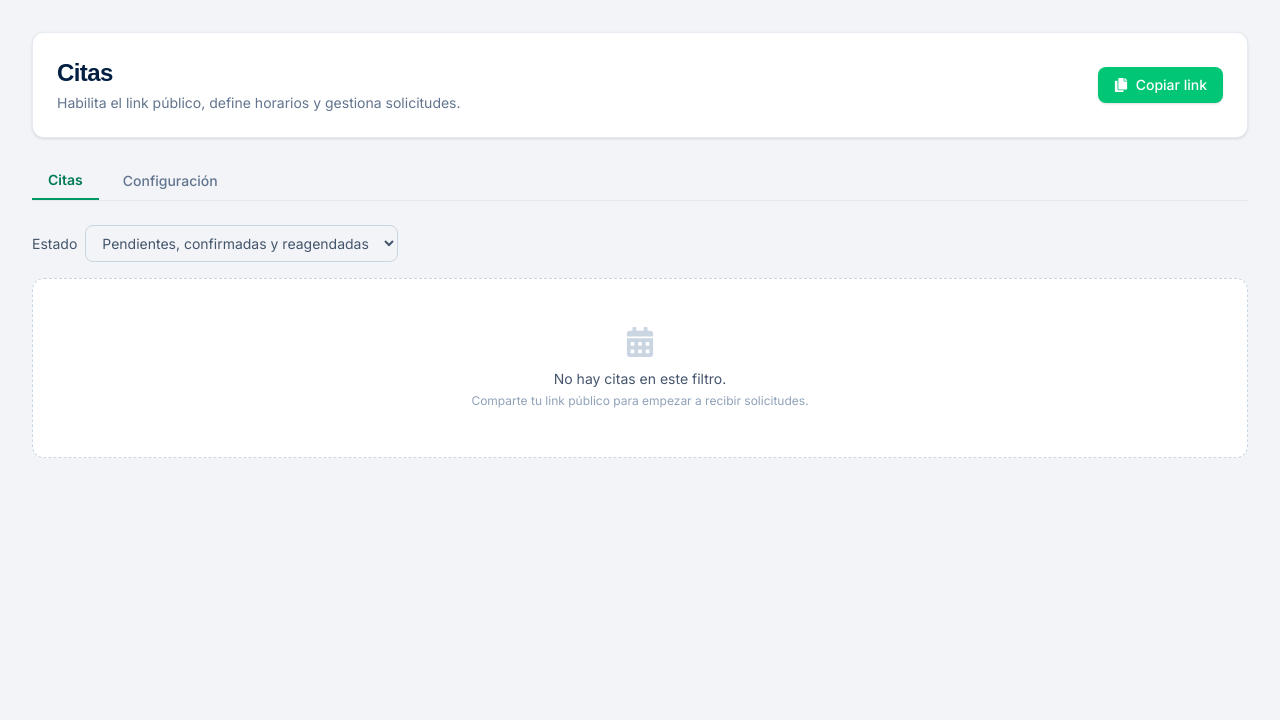
it: AppointmentsPage › opens the booking panel for the commercial plan
expect the button "Copiar link" is shown: met, box x1=1098 y1=67 x2=1223 y2=103
Click the button "Configuración".
click(170, 181)  # box x1=107 y1=162 x2=234 y2=200
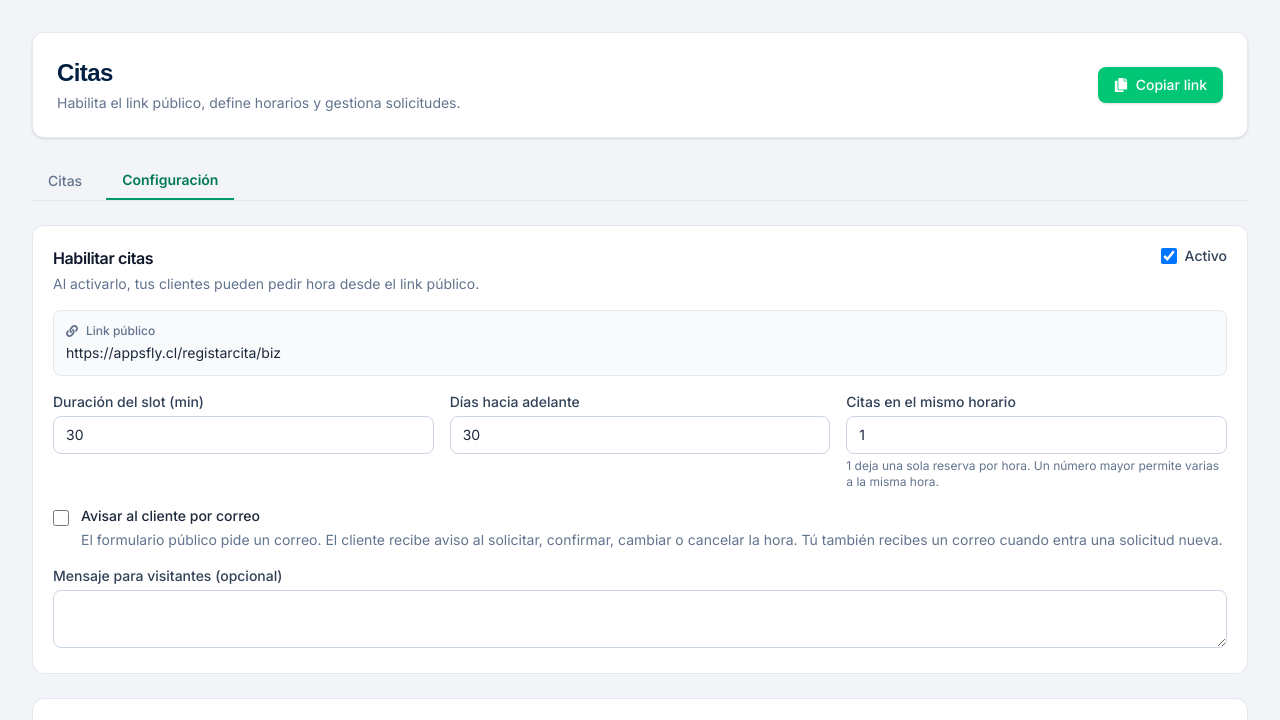
expect the heading "Habilitar citas" is shown: met, box x1=53 y1=248 x2=153 y2=268
expect the text "Citas en el mismo horario" is shown: met, box x1=846 y1=393 x2=1016 y2=410
